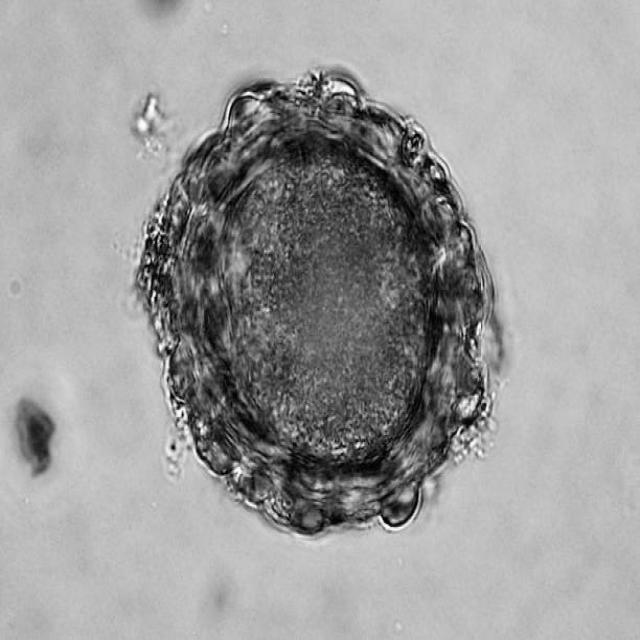Ascaris Lumbricoides: (130, 76, 503, 535)
